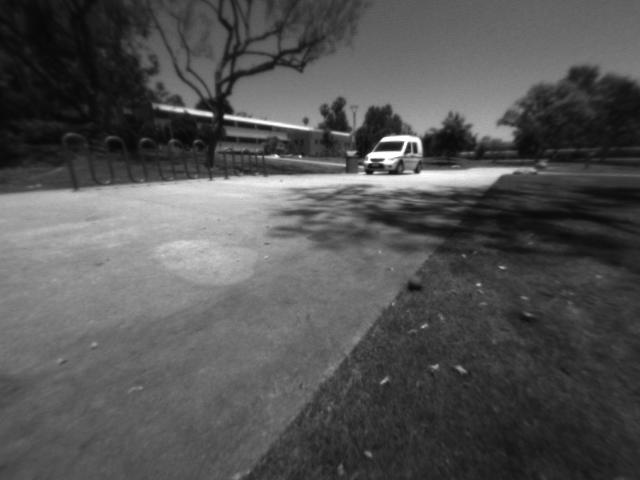dogtoy: (402, 265, 431, 298)
